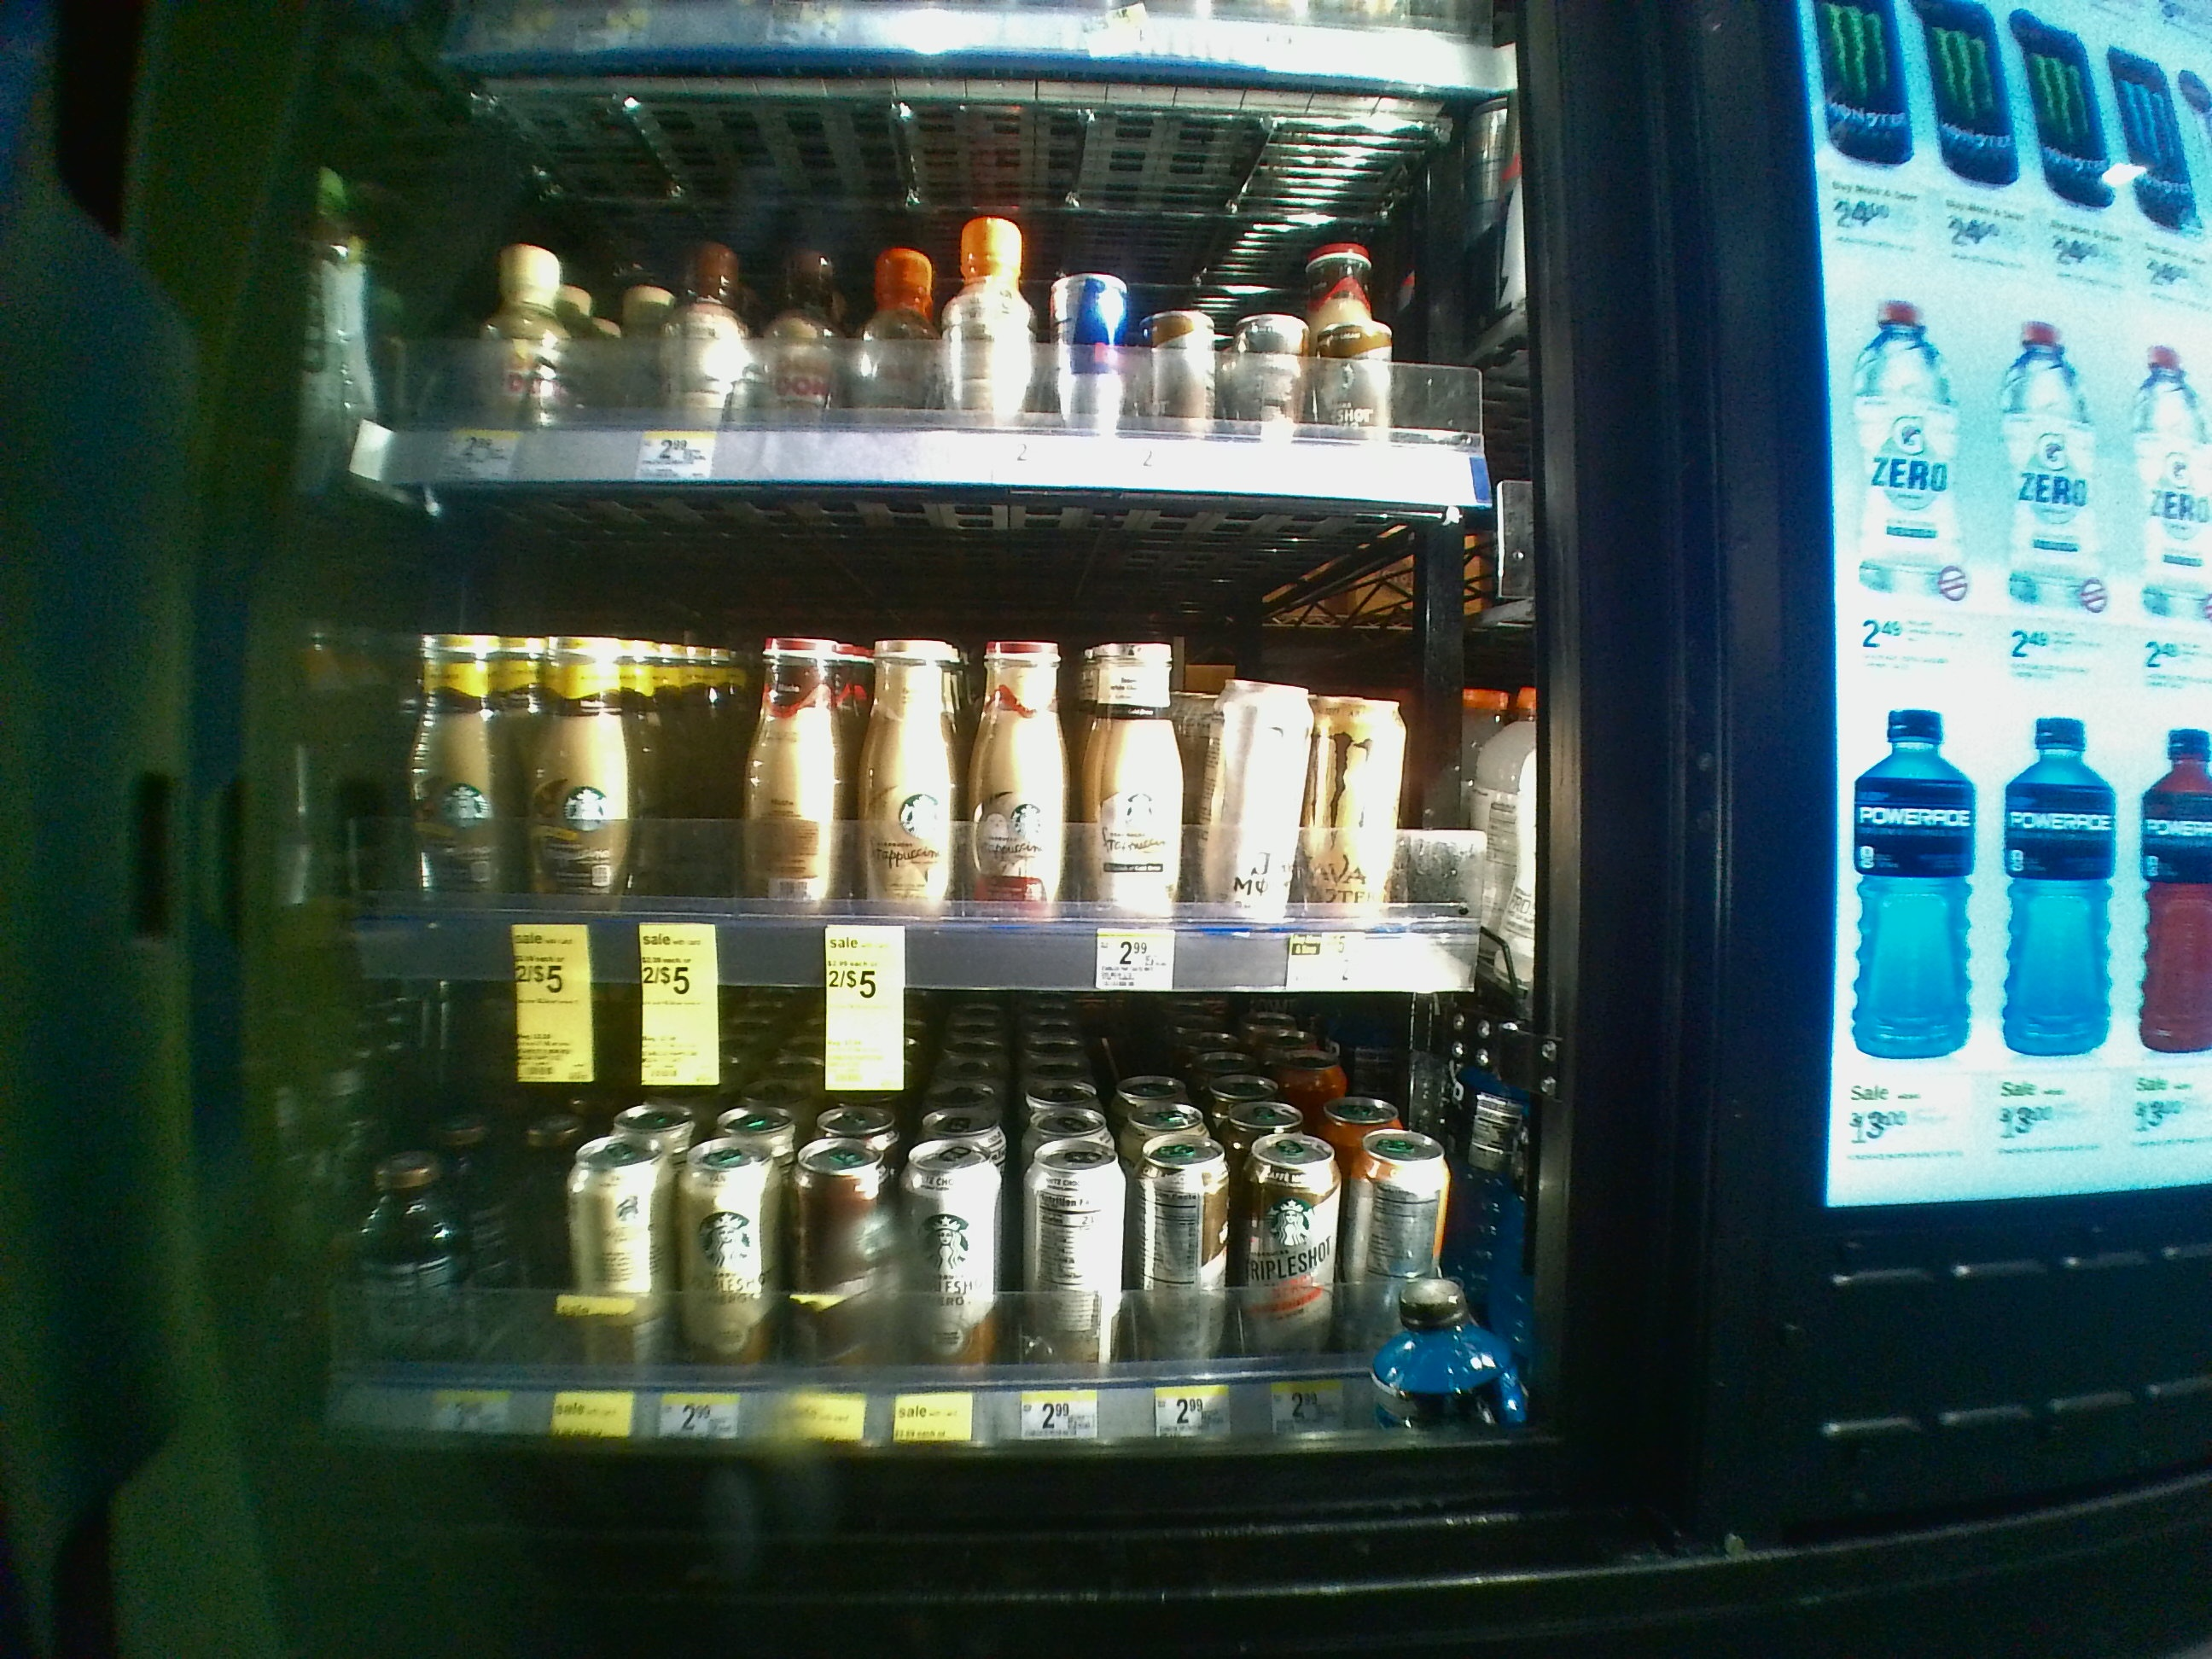shelf: (237, 490, 1583, 990), (225, 971, 1585, 1457)
